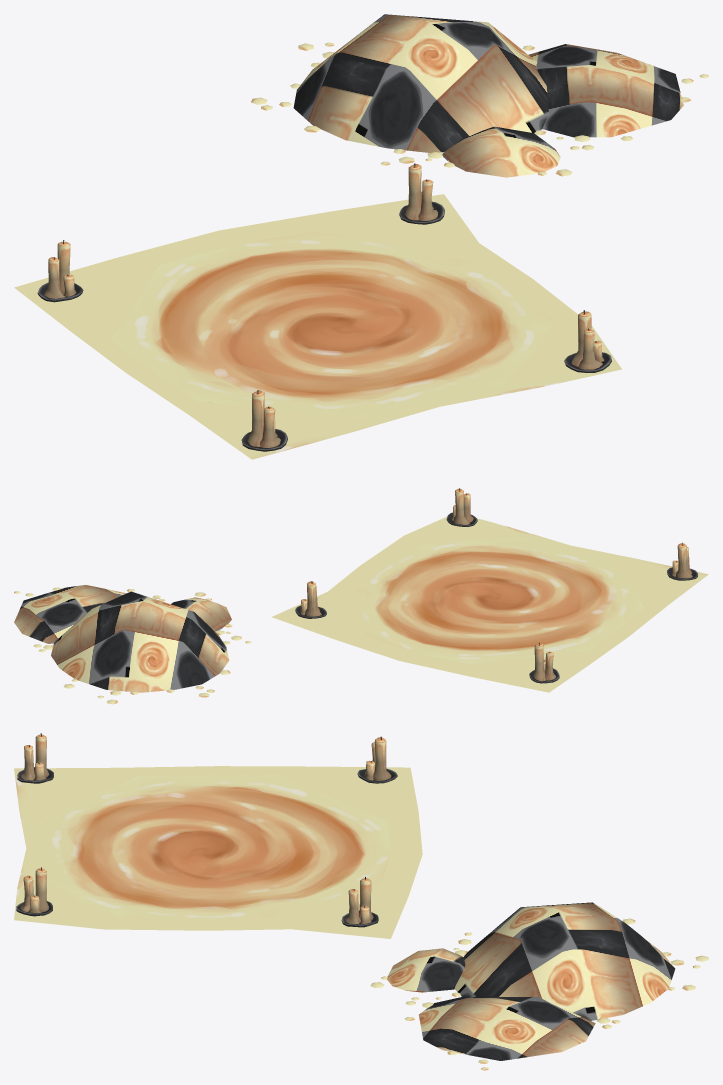
File: PORPS2.fbx
3 renders of one model, top to bottom at view 1: azimuth 30°, elevation 25°; view 2: azimuth 150°, elevation 25°; view 3: azimuth 270°, elevation 25°, orthographic. The views are drawn at different scales.
Visible parts, largest first — view 1: SM_PROP_rug_dungeon_04, SM_PROP_goldpile_dungeon_01.004, SM_PROP_candle_dungeon_07.002, SM_PROP_candle_dungeon_07.003, SM_PROP_candle_dungeon_07.001, SM_PROP_candle_dungeon_07.004; view 2: SM_PROP_rug_dungeon_04, SM_PROP_goldpile_dungeon_01.004, SM_PROP_candle_dungeon_07.001, SM_PROP_candle_dungeon_07.004, SM_PROP_candle_dungeon_07.003, SM_PROP_candle_dungeon_07.002; view 3: SM_PROP_rug_dungeon_04, SM_PROP_goldpile_dungeon_01.004, SM_PROP_candle_dungeon_07.004, SM_PROP_candle_dungeon_07.003, SM_PROP_candle_dungeon_07.002, SM_PROP_candle_dungeon_07.001.
Boxes of the visible parts, x1,y1,x2,y2 form: SM_PROP_rug_dungeon_04: (14, 194, 621, 459); SM_PROP_goldpile_dungeon_01.004: (251, 14, 708, 177); SM_PROP_candle_dungeon_07.002: (399, 163, 444, 224); SM_PROP_candle_dungeon_07.003: (241, 390, 287, 451); SM_PROP_candle_dungeon_07.001: (37, 240, 83, 302); SM_PROP_candle_dungeon_07.004: (564, 310, 611, 372); SM_PROP_rug_dungeon_04: (272, 517, 708, 692); SM_PROP_goldpile_dungeon_01.004: (14, 585, 251, 704); SM_PROP_candle_dungeon_07.001: (529, 642, 559, 683); SM_PROP_candle_dungeon_07.004: (446, 488, 477, 526); SM_PROP_candle_dungeon_07.003: (667, 542, 697, 580); SM_PROP_candle_dungeon_07.002: (295, 581, 326, 618); SM_PROP_rug_dungeon_04: (14, 766, 422, 938); SM_PROP_goldpile_dungeon_01.004: (370, 902, 708, 1070); SM_PROP_candle_dungeon_07.004: (16, 867, 52, 916); SM_PROP_candle_dungeon_07.003: (17, 733, 53, 783); SM_PROP_candle_dungeon_07.002: (341, 877, 378, 927); SM_PROP_candle_dungeon_07.001: (357, 736, 397, 783).
Size of the model in its own units: 4.73 by 0.4662 by 4.56.
Materials: 6 (6 with a texture image).
